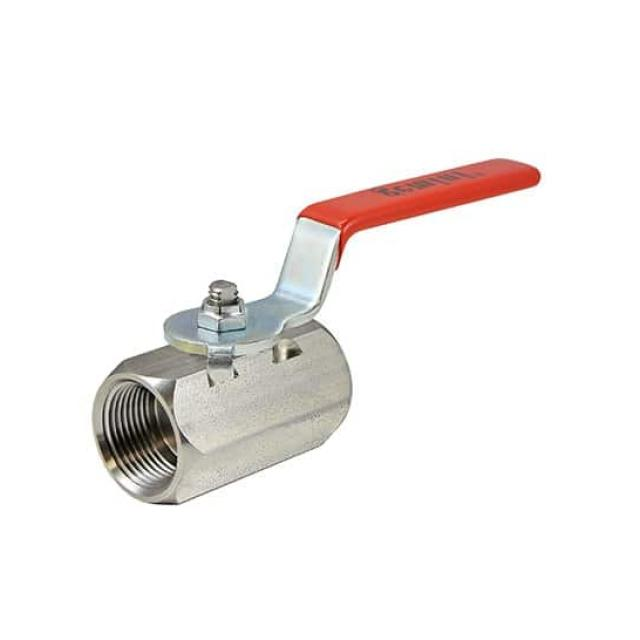Lever Handle Valve Threaded: (99, 130, 550, 370)
